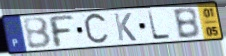B: (21, 16, 53, 50), (171, 6, 202, 40)
C: (82, 11, 111, 47)
F: (46, 15, 76, 49)
K: (112, 12, 138, 42)
L: (146, 10, 173, 41)
